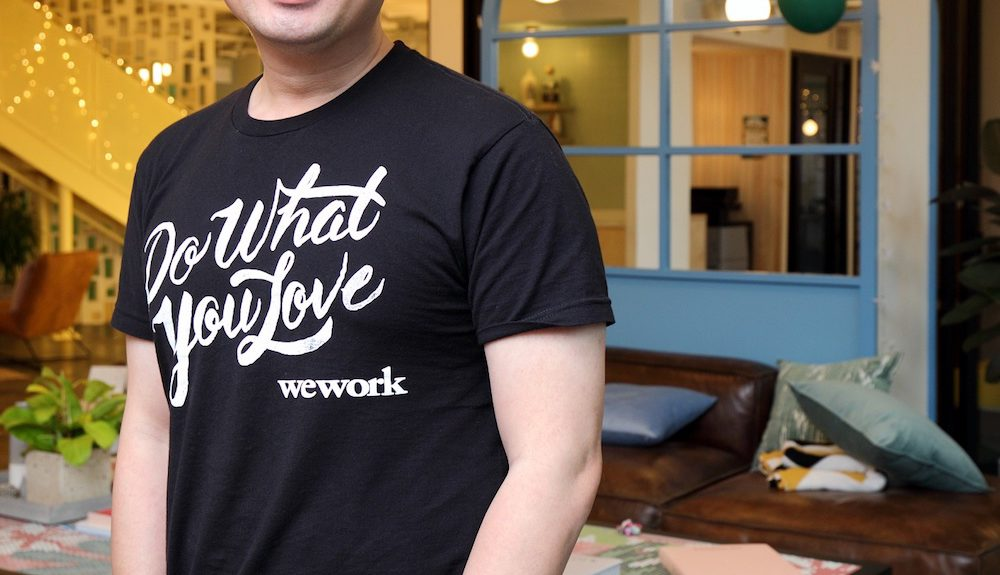wework: (273, 362, 410, 403)
